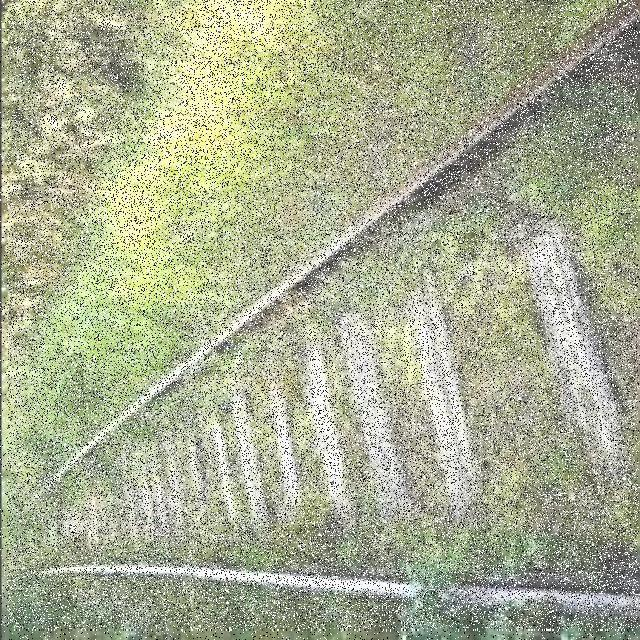rail: (8, 1, 639, 631)
